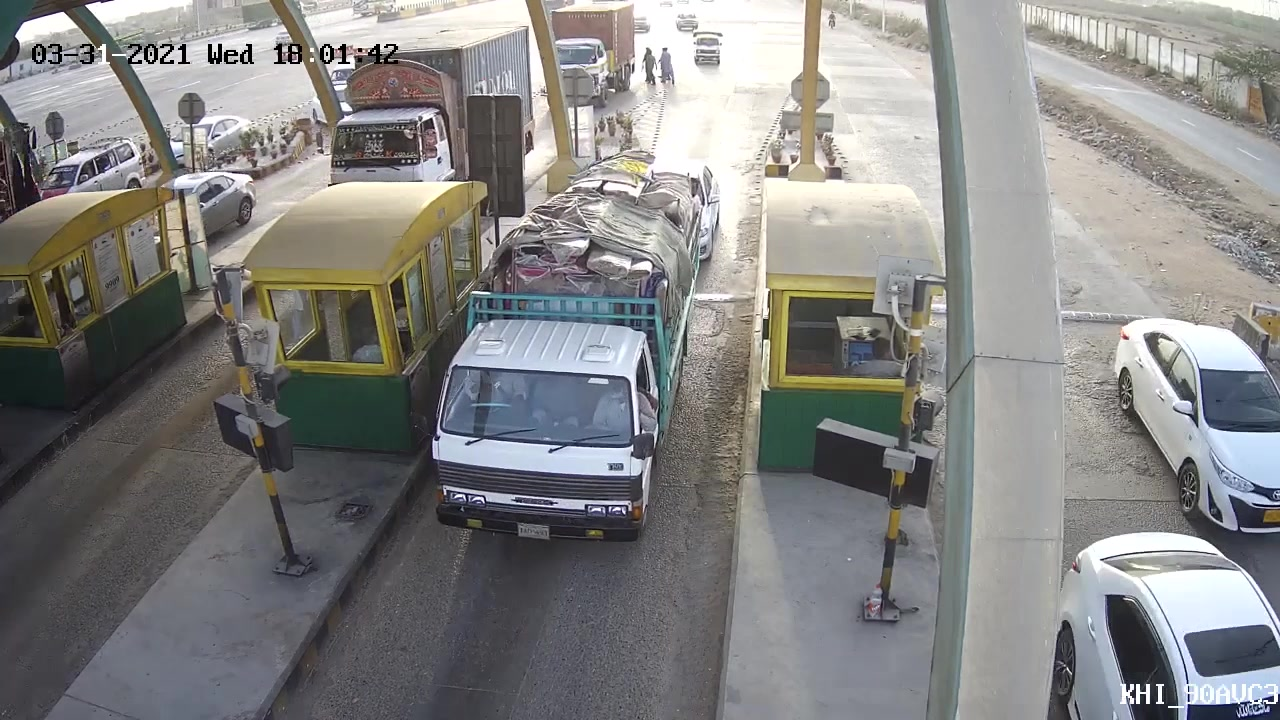F3: (421, 162, 709, 555)
